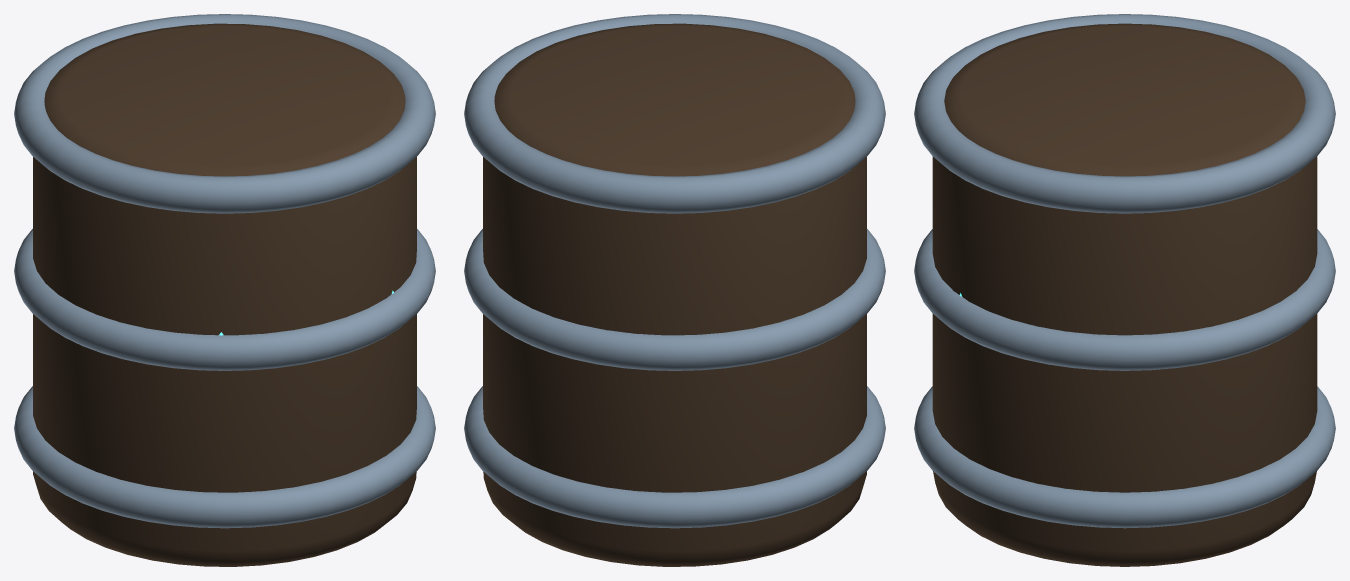
File: mimic_v8.glb
3 renders of one model, left to right at view 1: azimuth 30°, elevation 25°; view 2: azimuth 150°, elevation 25°; view 3: azimuth 270°, elevation 25°, orthographic.
Visible parts, largest first — view 1: BARREL_BODY_SECONDARY, BARREL_HOOP_PRIMARY.002, BARREL_HOOP_PRIMARY.001, BARREL_HOOP_PRIMARY; view 2: BARREL_BODY_SECONDARY, BARREL_HOOP_PRIMARY.002, BARREL_HOOP_PRIMARY.001, BARREL_HOOP_PRIMARY; view 3: BARREL_BODY_SECONDARY, BARREL_HOOP_PRIMARY.002, BARREL_HOOP_PRIMARY.001, BARREL_HOOP_PRIMARY.
Part boxes in pixels (x1,y1,x2,y2): BARREL_BODY_SECONDARY: [33, 23, 416, 566]; BARREL_HOOP_PRIMARY.002: [14, 14, 435, 213]; BARREL_HOOP_PRIMARY.001: [14, 229, 435, 370]; BARREL_HOOP_PRIMARY: [14, 386, 435, 528]; BARREL_BODY_SECONDARY: [483, 23, 866, 566]; BARREL_HOOP_PRIMARY.002: [464, 14, 885, 213]; BARREL_HOOP_PRIMARY.001: [464, 229, 885, 370]; BARREL_HOOP_PRIMARY: [464, 386, 885, 528]; BARREL_BODY_SECONDARY: [932, 23, 1317, 566]; BARREL_HOOP_PRIMARY.002: [914, 14, 1335, 213]; BARREL_HOOP_PRIMARY.001: [914, 229, 1335, 370]; BARREL_HOOP_PRIMARY: [914, 386, 1335, 528].
Size of the model in its own units: 1.23 by 1.29 by 1.23.
